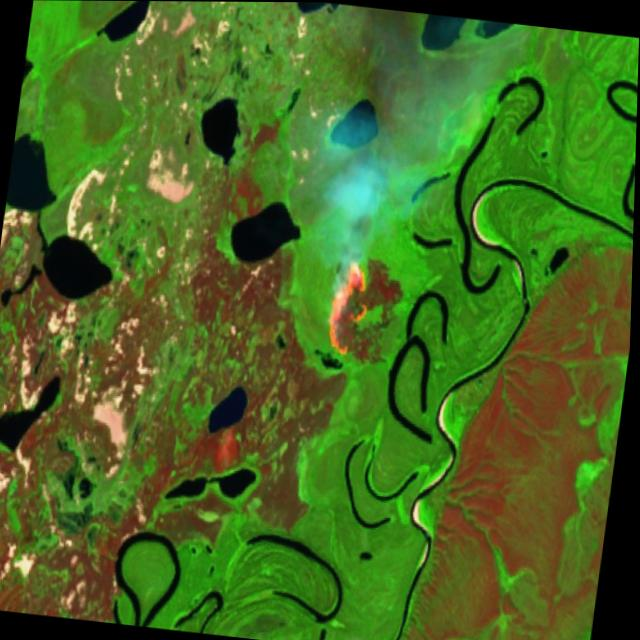fire: (318, 251, 381, 362)
